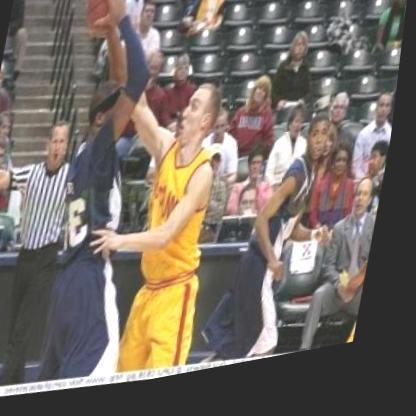basketball: (76, 0, 136, 47)
